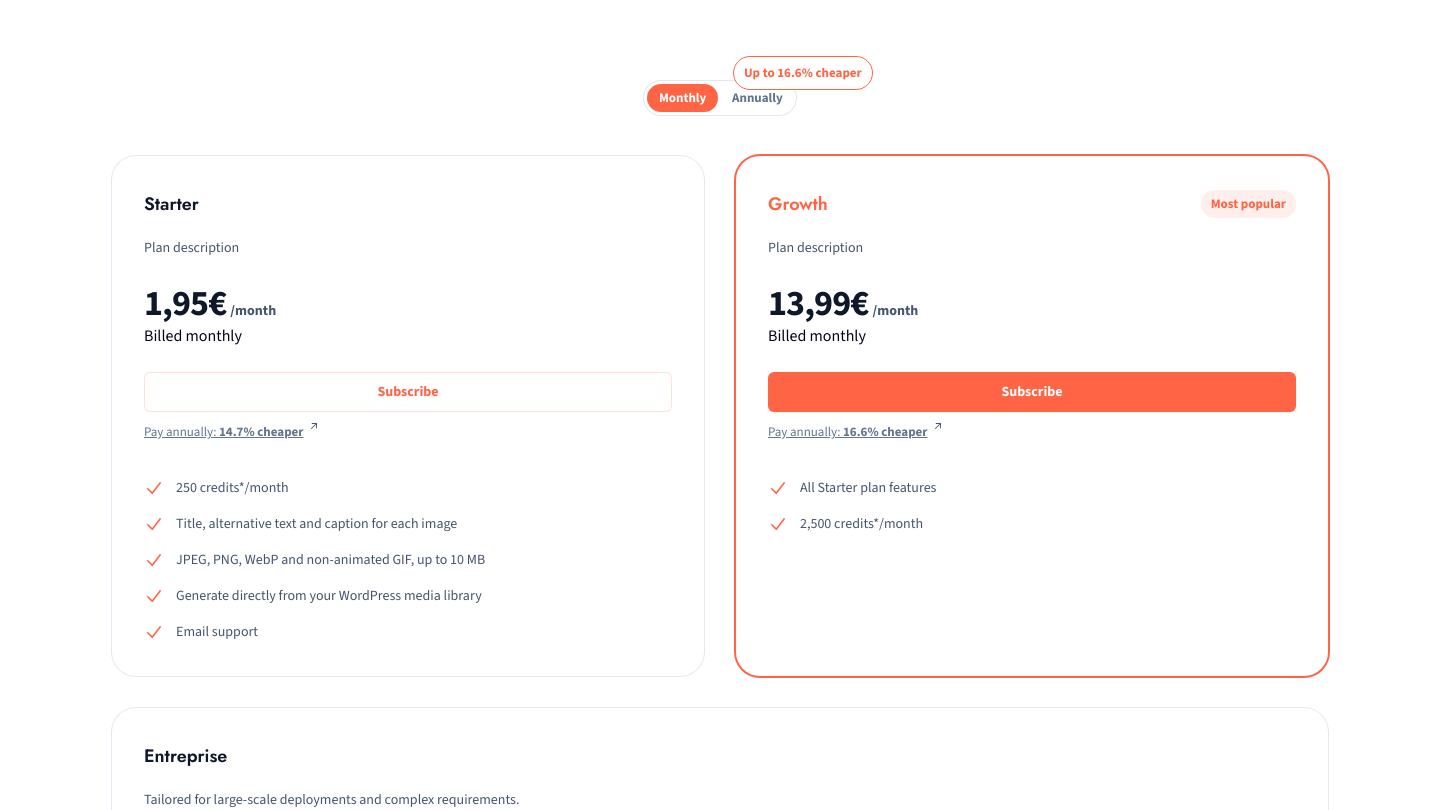
Test: Plans page promises › switches to the yearly plans from a monthly card
Click the button with test id "get-more-tokens-button" showing "Pay annually: 14.7% cheaper": {"x": 232, "y": 432} [144, 420, 320, 444]
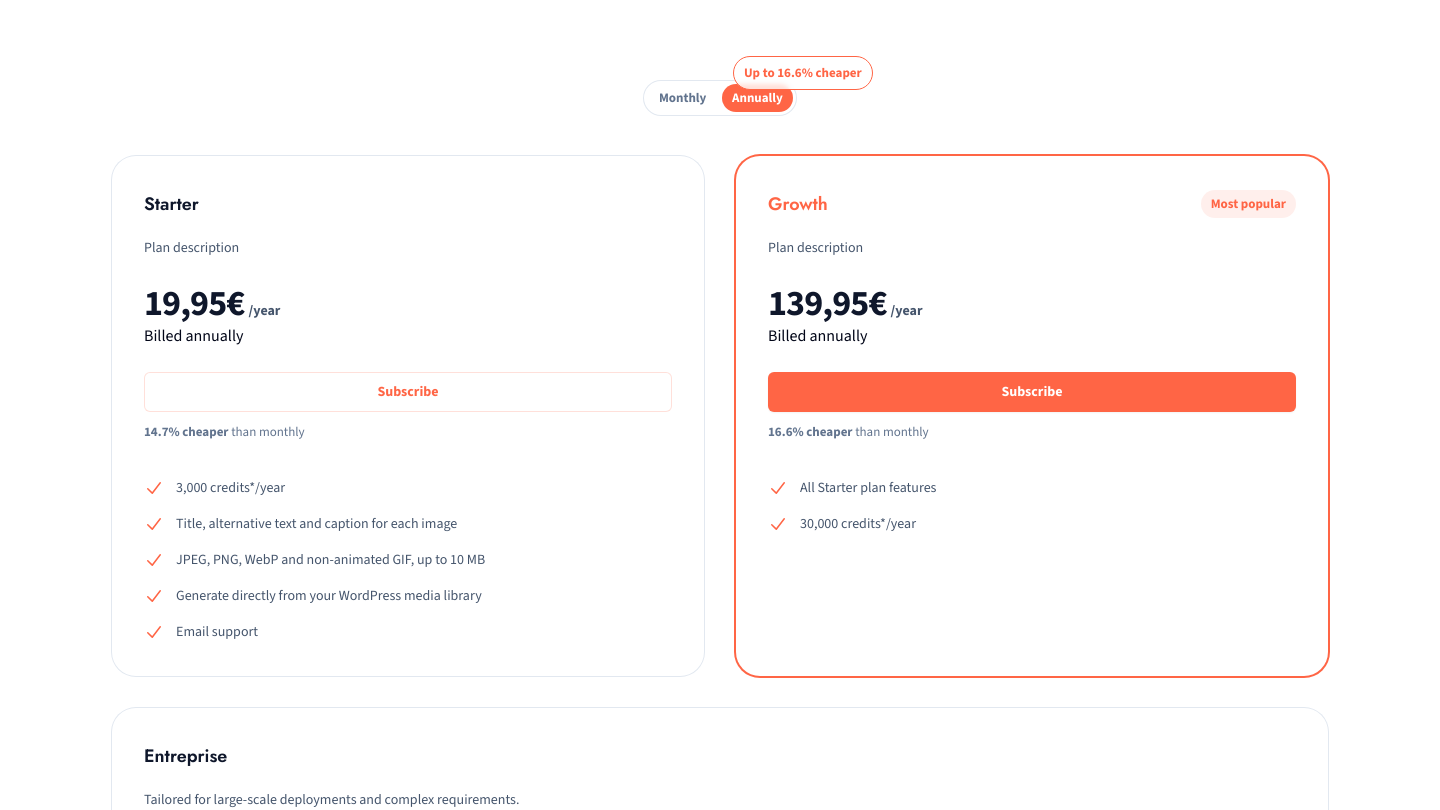
Expected: the element showing "14.7% cheaper than monthly" is shown, [144, 420, 305, 444]
Expected: the element showing "16.6% cheaper than monthly" is shown, [768, 420, 929, 444]
Expected: the button with test id "get-more-tokens-button" is gone
